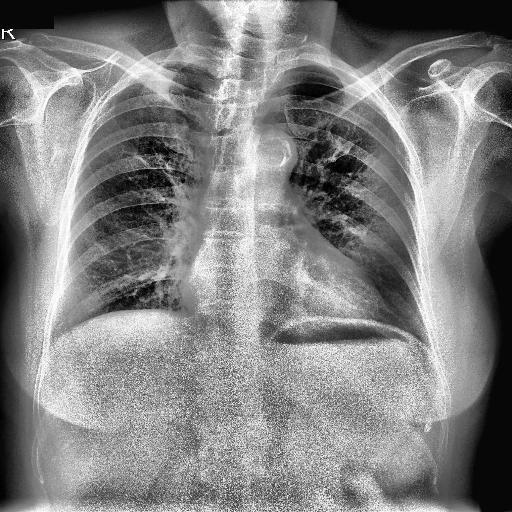0- Aortic enlargement: (240, 127, 296, 187), (236, 129, 298, 174), (248, 128, 298, 178)
3- Cardiomegaly: (177, 262, 386, 330), (184, 266, 386, 328), (174, 261, 384, 319)
